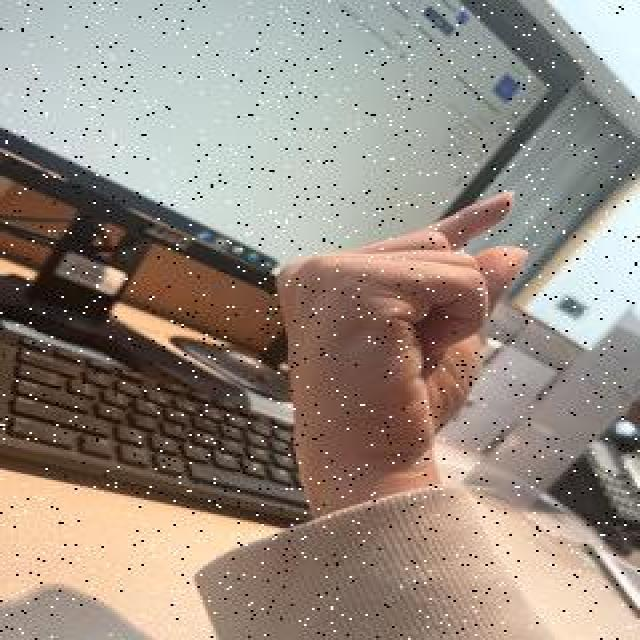G: (270, 187, 534, 471)
